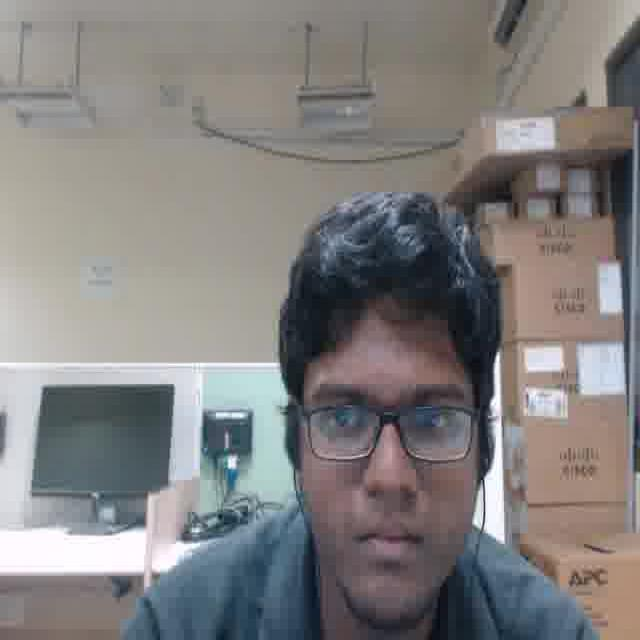Engaged: (297, 302, 479, 614)
